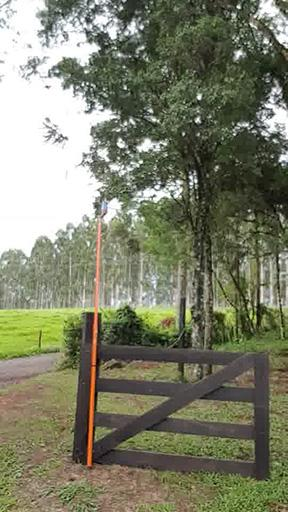Vara_Manobra: (85, 219, 103, 467)
